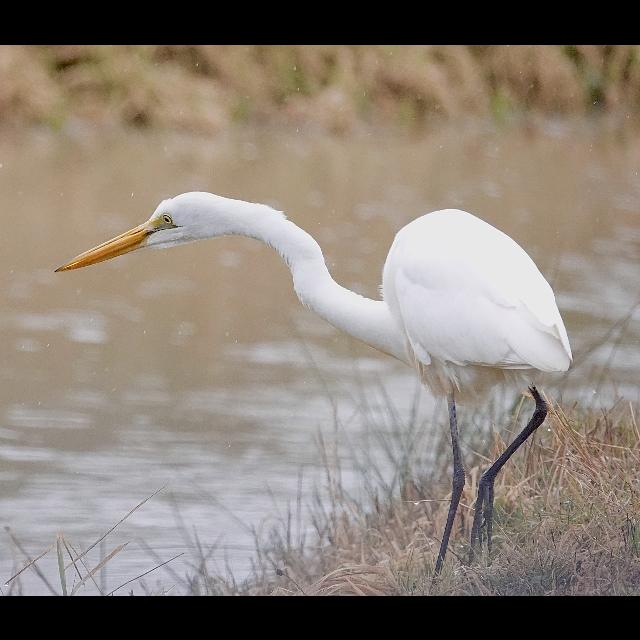egret: (54, 179, 590, 587)
